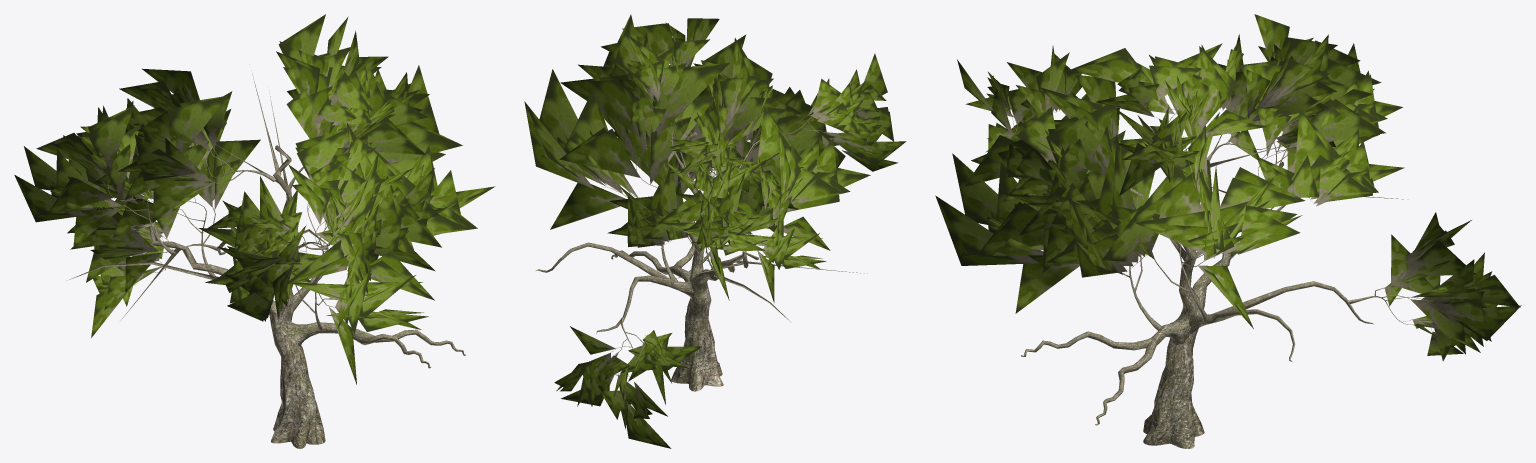
File: oak11.obj
The picture shows the model from 3 angles, left to right: view 1: azimuth 30°, elevation 25°; view 2: azimuth 150°, elevation 25°; view 3: azimuth 270°, elevation 25°; orthographic projection. The views are drawn at different scales.
Visible parts, largest first — view 1: oak leaf, mossybark03; view 2: oak leaf, mossybark03; view 3: oak leaf, mossybark03.
Boxes of the visible parts, bbox=[...] form: oak leaf: bbox=[14, 14, 495, 384]; mossybark03: bbox=[69, 74, 465, 448]; oak leaf: bbox=[524, 14, 906, 448]; mossybark03: bbox=[536, 99, 867, 391]; oak leaf: bbox=[935, 14, 1521, 361]; mossybark03: bbox=[1007, 91, 1435, 448].
Bounding box in the file's own units: 692 × 725 × 909.
2 materials, 2 textured.
